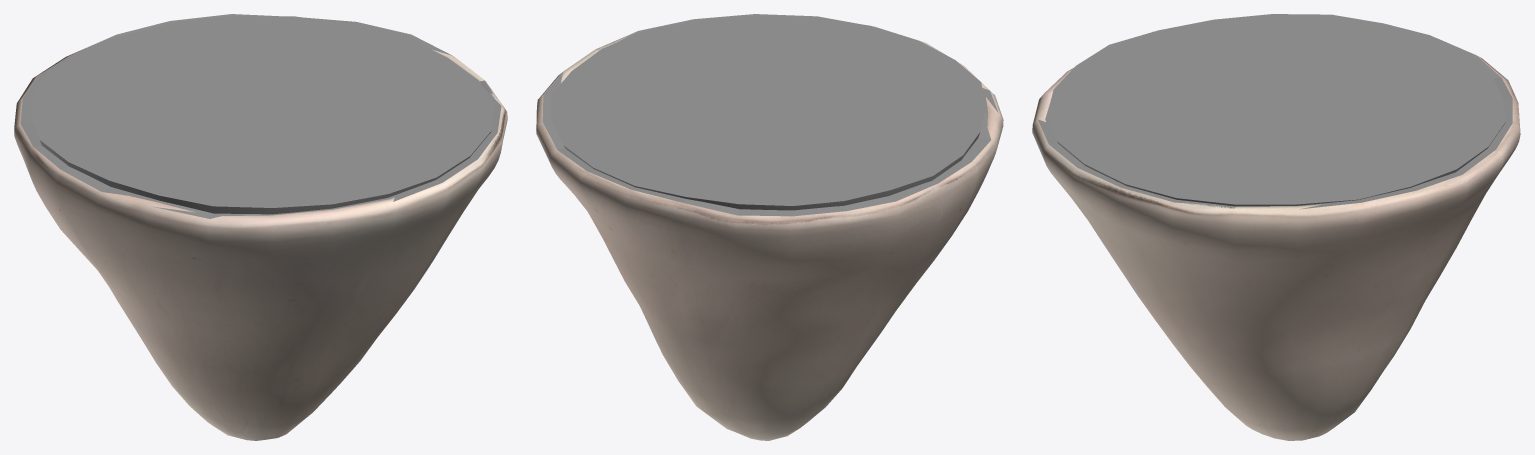
3 renders of one model, left to right at view 1: azimuth 30°, elevation 25°; view 2: azimuth 150°, elevation 25°; view 3: azimuth 270°, elevation 25°, orthographic. The views are drawn at different scales.
Visible parts, largest first — view 1: Object101, 101, Inner; view 2: Object101, 101, Inner; view 3: Object101, 101, Inner.
Part boxes in pixels (left/top/right/bottom): Object101: left=31, top=16, right=494, bottom=214; 101: left=14, top=37, right=507, bottom=440; Inner: left=20, top=14, right=501, bottom=218; Object101: left=551, top=15, right=985, bottom=210; 101: left=536, top=27, right=1003, bottom=440; Inner: left=542, top=14, right=998, bottom=216; Object101: left=1047, top=14, right=1505, bottom=206; 101: left=1032, top=55, right=1520, bottom=440; Inner: left=1038, top=39, right=1512, bottom=209.
Size of the model in its own units: 92.11 by 69.22 by 93.38.
Materials: 2 (1 with a texture image).
